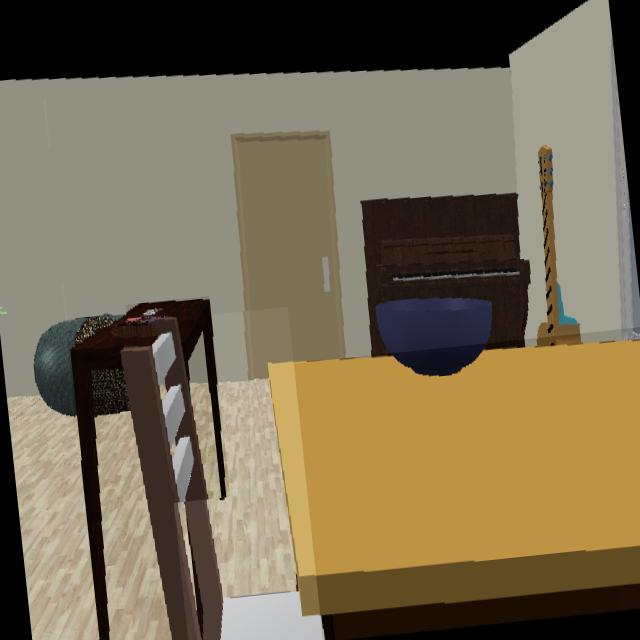chair: (121, 318, 321, 640)
table: (271, 342, 640, 640), (70, 327, 156, 640), (127, 300, 226, 497)
